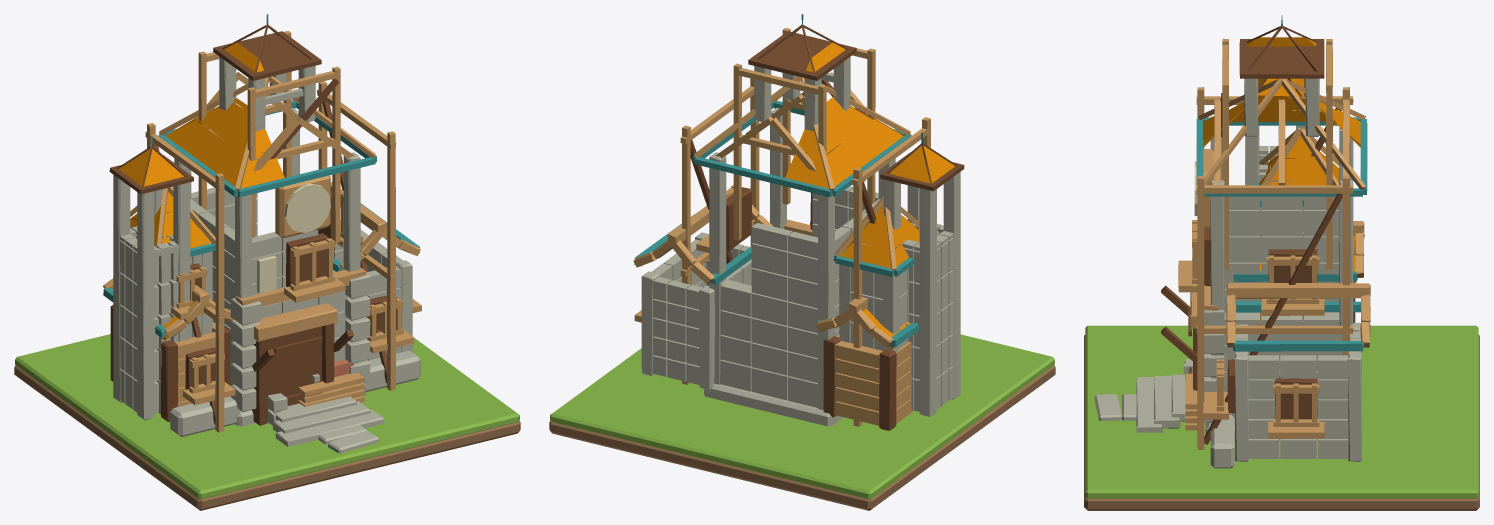
Rendered from town_hall_l08_construction_LOD1.glb.
3 views of the same model, side by side, from view 1: azimuth 30°, elevation 25°; view 2: azimuth 150°, elevation 25°; view 3: azimuth 270°, elevation 25° (orthographic). The views are drawn at different scales.
Visible parts, largest first — view 1: town_hall_l08_construction_foundation.001, town_hall_l08_construction_grass_tile.001, town_hall_l08_construction_earth_tile.001, town_hall_l08_construction_path_stone.005; view 2: town_hall_l08_construction_foundation.001, town_hall_l08_construction_grass_tile.001, town_hall_l08_construction_earth_tile.001; view 3: town_hall_l08_construction_foundation.001, town_hall_l08_construction_grass_tile.001, town_hall_l08_construction_earth_tile.001, town_hall_l08_construction_path_stone.005.
Boxes of the visible parts, box(x1,y1,x2,y2) form: town_hall_l08_construction_foundation.001: box(103, 14, 421, 446); town_hall_l08_construction_grass_tile.001: box(15, 334, 519, 499); town_hall_l08_construction_earth_tile.001: box(14, 365, 520, 510); town_hall_l08_construction_path_stone.005: box(328, 430, 379, 453); town_hall_l08_construction_foundation.001: box(633, 14, 964, 430); town_hall_l08_construction_grass_tile.001: box(550, 334, 1054, 499); town_hall_l08_construction_earth_tile.001: box(549, 365, 1055, 510); town_hall_l08_construction_foundation.001: box(1136, 15, 1370, 468); town_hall_l08_construction_grass_tile.001: box(1085, 325, 1478, 498); town_hall_l08_construction_earth_tile.001: box(1084, 335, 1479, 510); town_hall_l08_construction_path_stone.005: box(1094, 394, 1121, 421).
Bounding box in the file's own units: 3.6 × 4.16 × 3.6.
